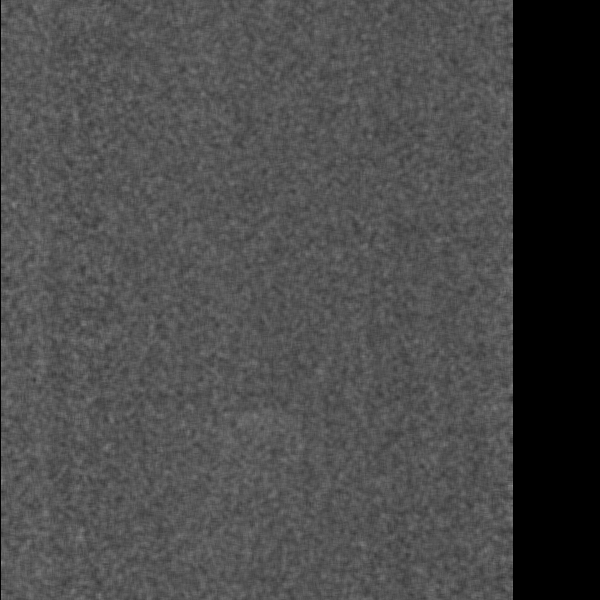spark: (225, 408, 268, 428)
